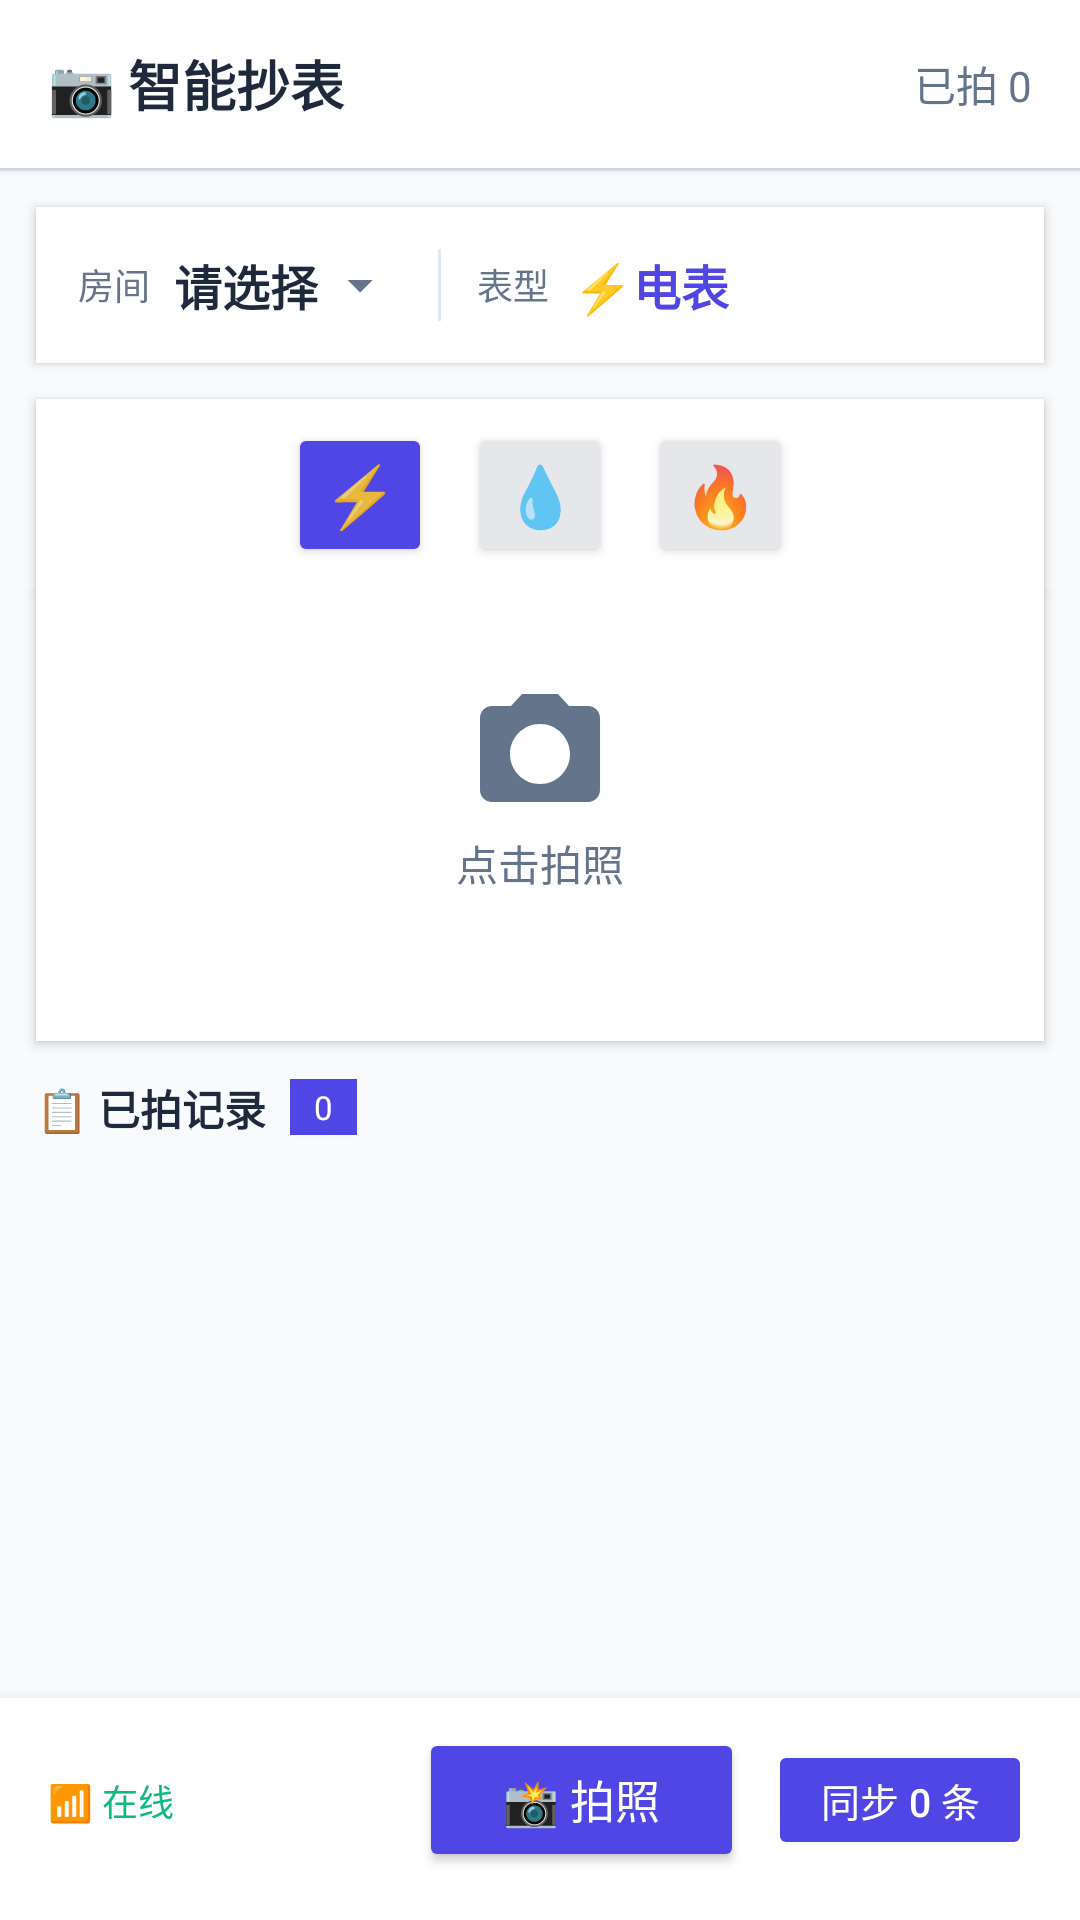

Named icons in this screenshot (1080px x 1920px) and their centers, point (x, y):
camera: point (540, 748)
